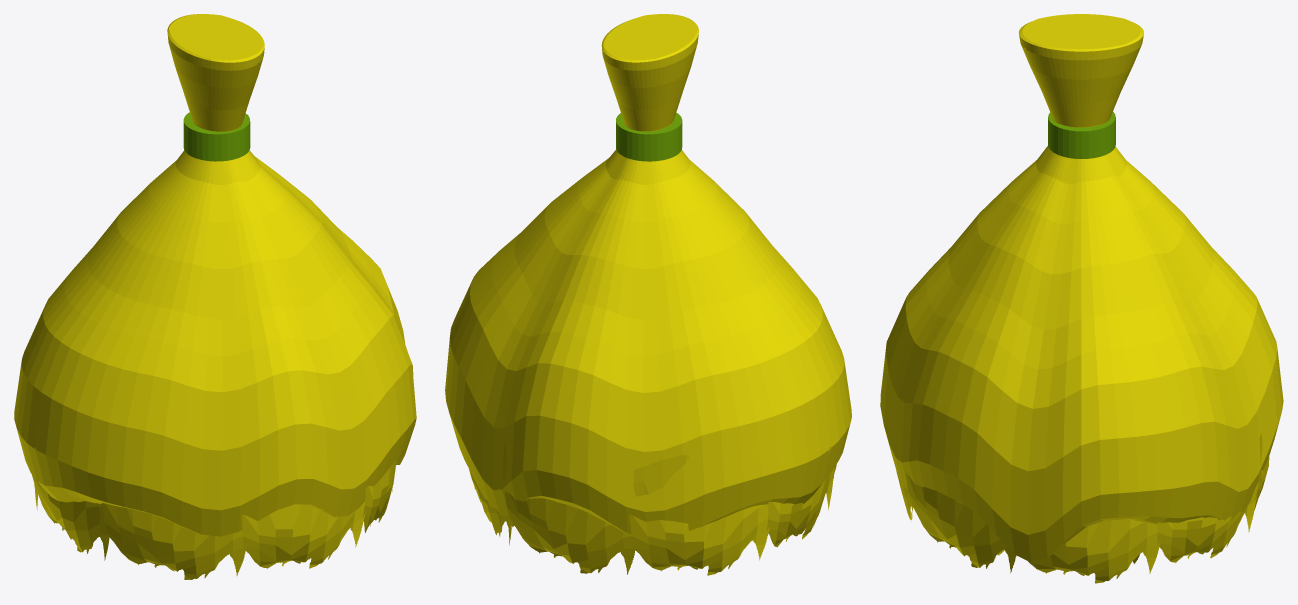
The model's file is Tinawon.glb.
3 views of the same model, side by side, from view 1: azimuth 30°, elevation 25°; view 2: azimuth 150°, elevation 25°; view 3: azimuth 270°, elevation 25° (orthographic).
Visible parts, largest first — view 1: Hay; view 2: Hay; view 3: Hay.
Boxes of the visible parts, x1,y1,x2,y2 form: Hay: (14, 14, 416, 579); Hay: (445, 14, 851, 575); Hay: (880, 14, 1283, 583).
Size of the model in its own units: 24.87 by 32.05 by 23.37.
1 material, 1 textured.
